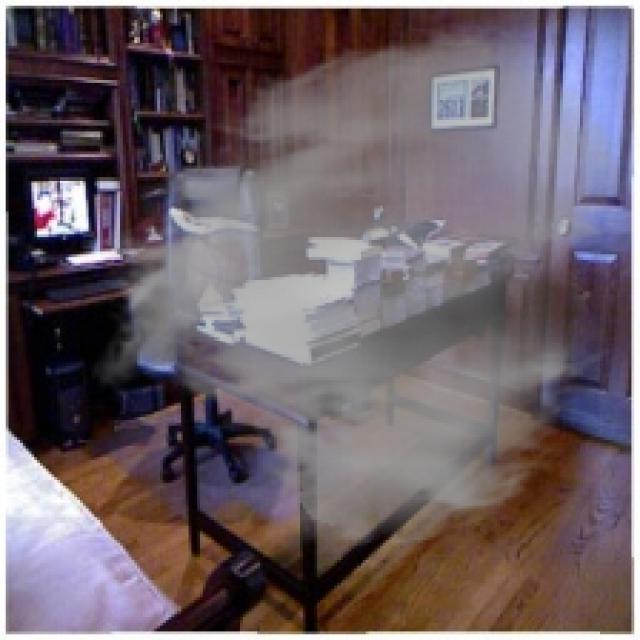smoke: (89, 20, 626, 551)
